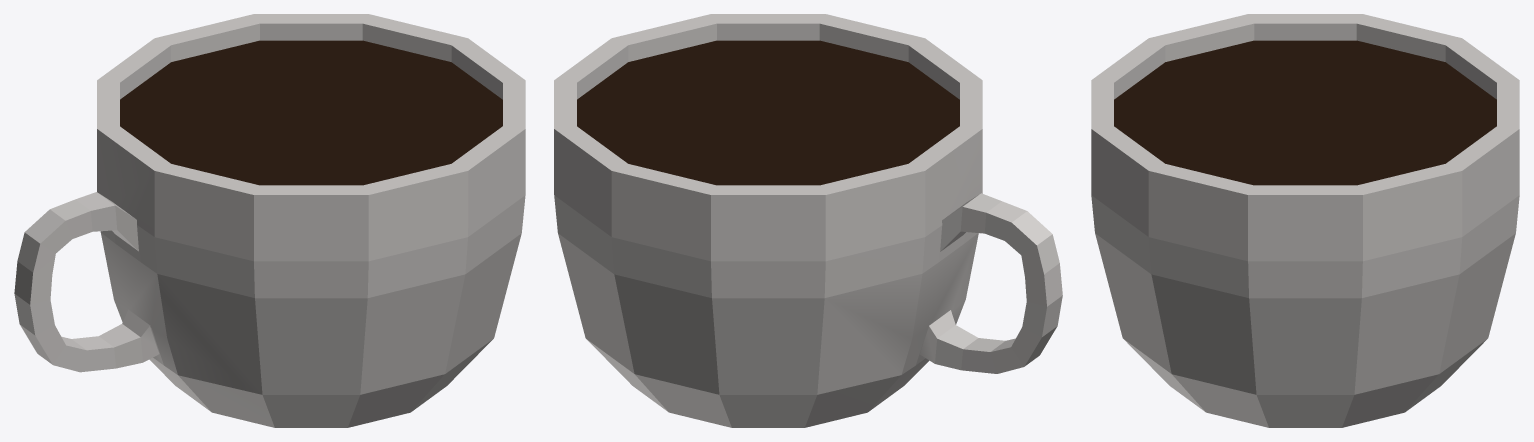
File: TazaCafe.fbx
The picture shows the model from 3 angles, left to right: view 1: azimuth 30°, elevation 25°; view 2: azimuth 150°, elevation 25°; view 3: azimuth 270°, elevation 25°; orthographic projection.
Visible parts, largest first — view 1: ChamferCyl002, ChamferCyl003; view 2: ChamferCyl002, ChamferCyl003; view 3: ChamferCyl002, ChamferCyl003.
Part boxes in pixels (x1,y1,x2,y2): ChamferCyl002: (14,14,525,427); ChamferCyl003: (120,40,502,185); ChamferCyl002: (554,14,1062,427); ChamferCyl003: (577,40,959,185); ChamferCyl002: (1091,14,1519,427); ChamferCyl003: (1114,40,1496,185).
Size of the model in its own units: 15.16 by 8.22 by 11.89.
